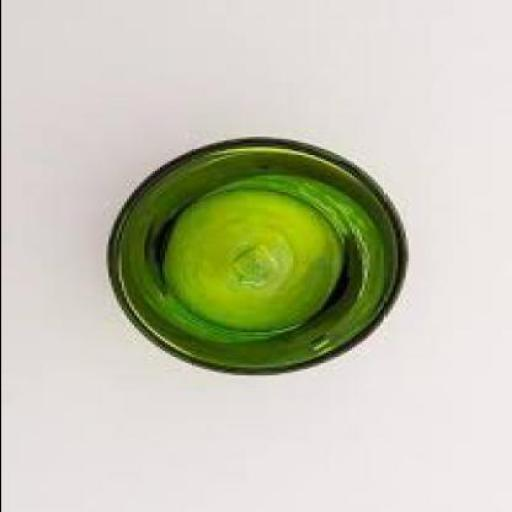glass: (109, 134, 410, 374)
